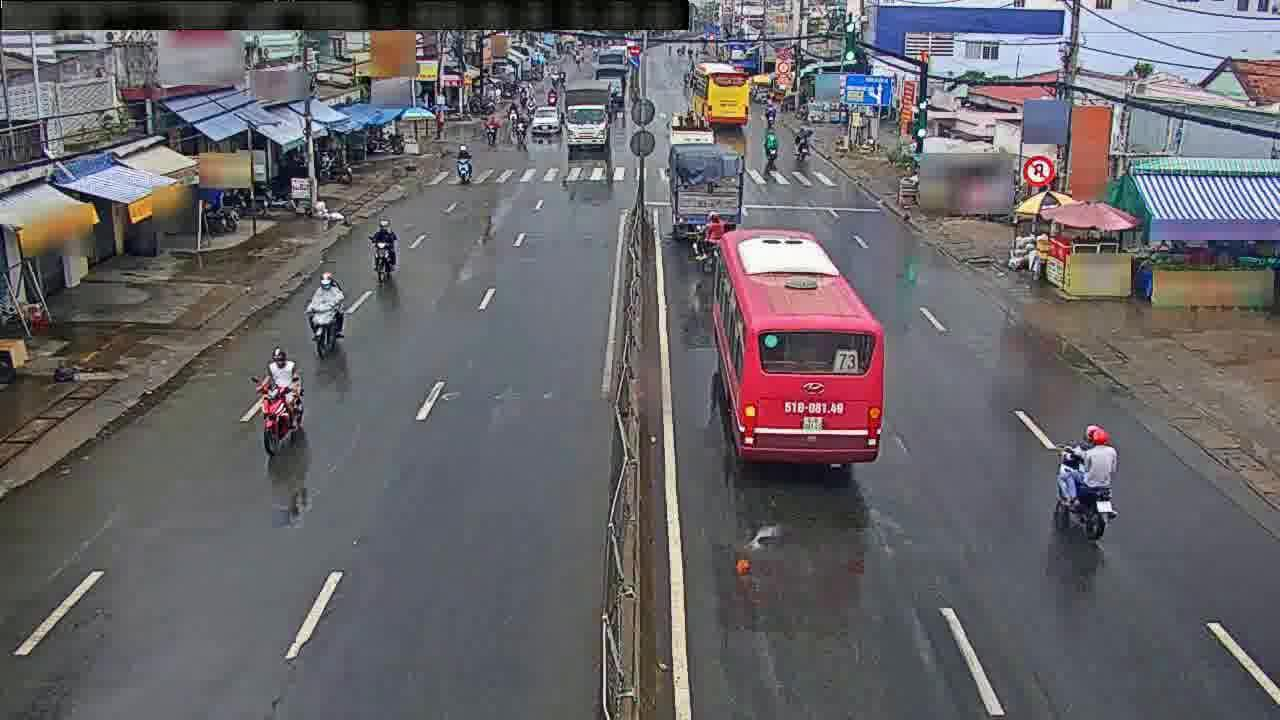14: (708, 226, 891, 467), (695, 65, 753, 125)
8: (666, 135, 740, 238), (564, 77, 609, 153)
container: (532, 107, 558, 133)
motorbike: (1048, 422, 1127, 540), (251, 349, 310, 452), (298, 272, 349, 354), (361, 219, 405, 284), (690, 210, 734, 260), (452, 144, 474, 182), (761, 128, 780, 163)
